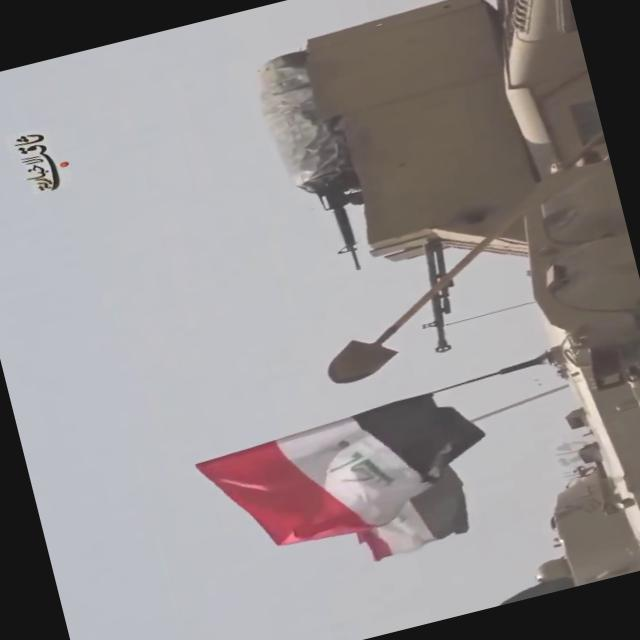long weapon: (300, 171, 392, 287)
